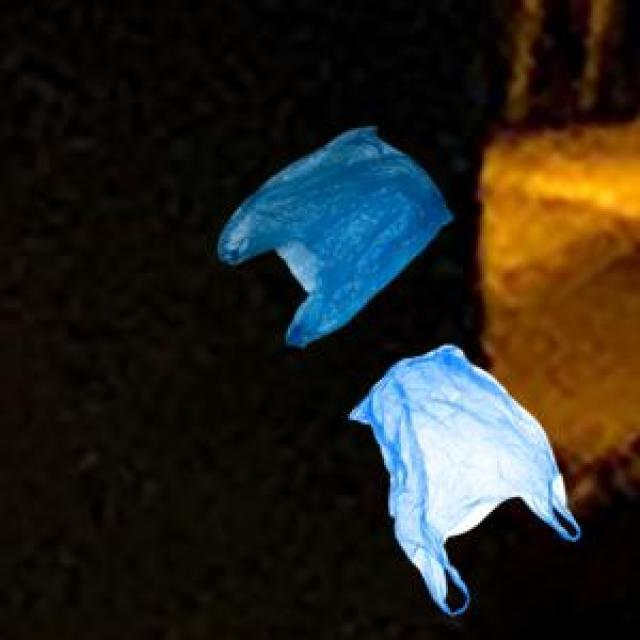Bolsa-de-plastico: (349, 345, 582, 619), (216, 126, 455, 351)
